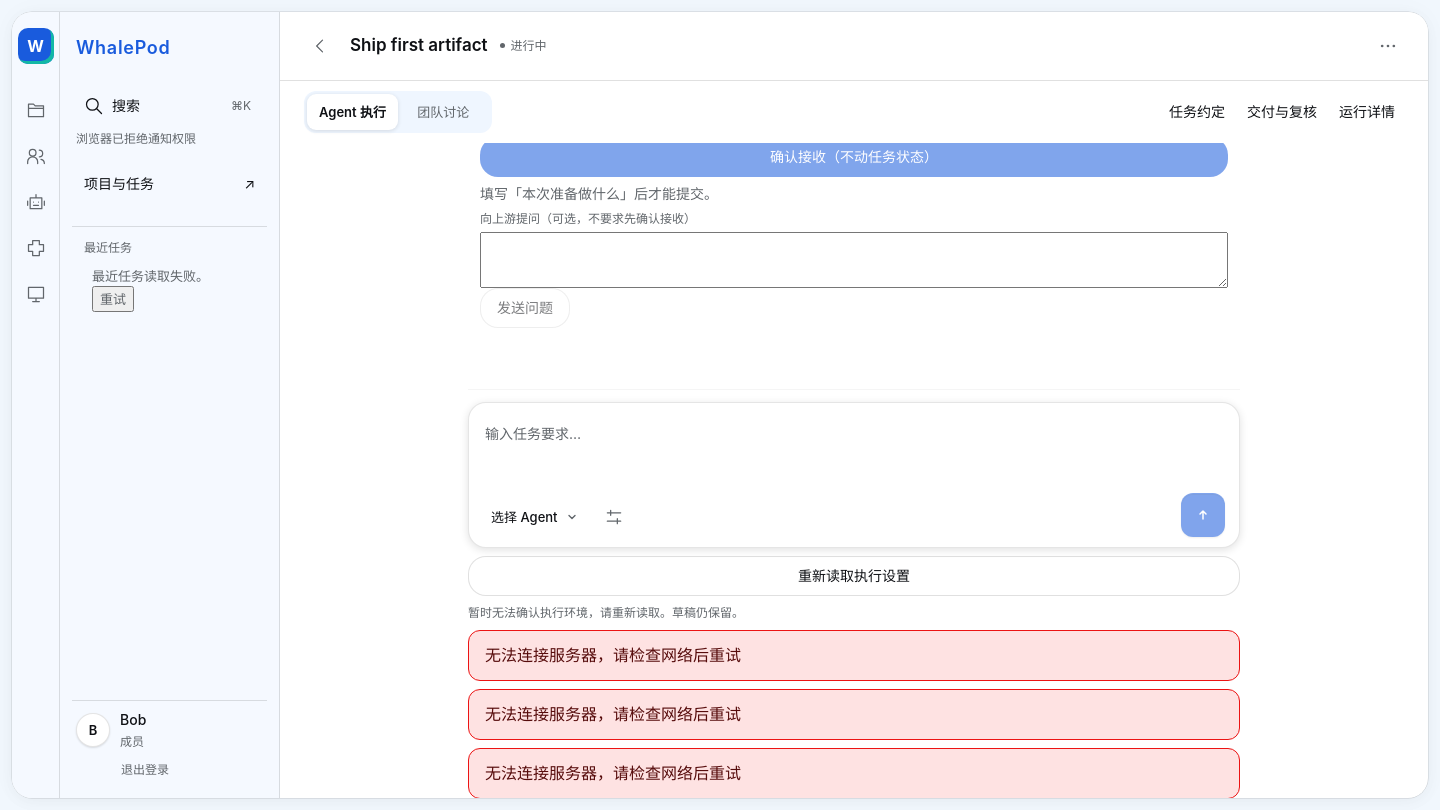
Test: #380 下游接收面板 › 向上游提问不要求先确认接收；失败保留文字，成功后正文不变
(page scrolled)
In the text box labelled "向上游提问": (854, 260) [480,232,1228,288], type "订单号为空时怎么处理？"
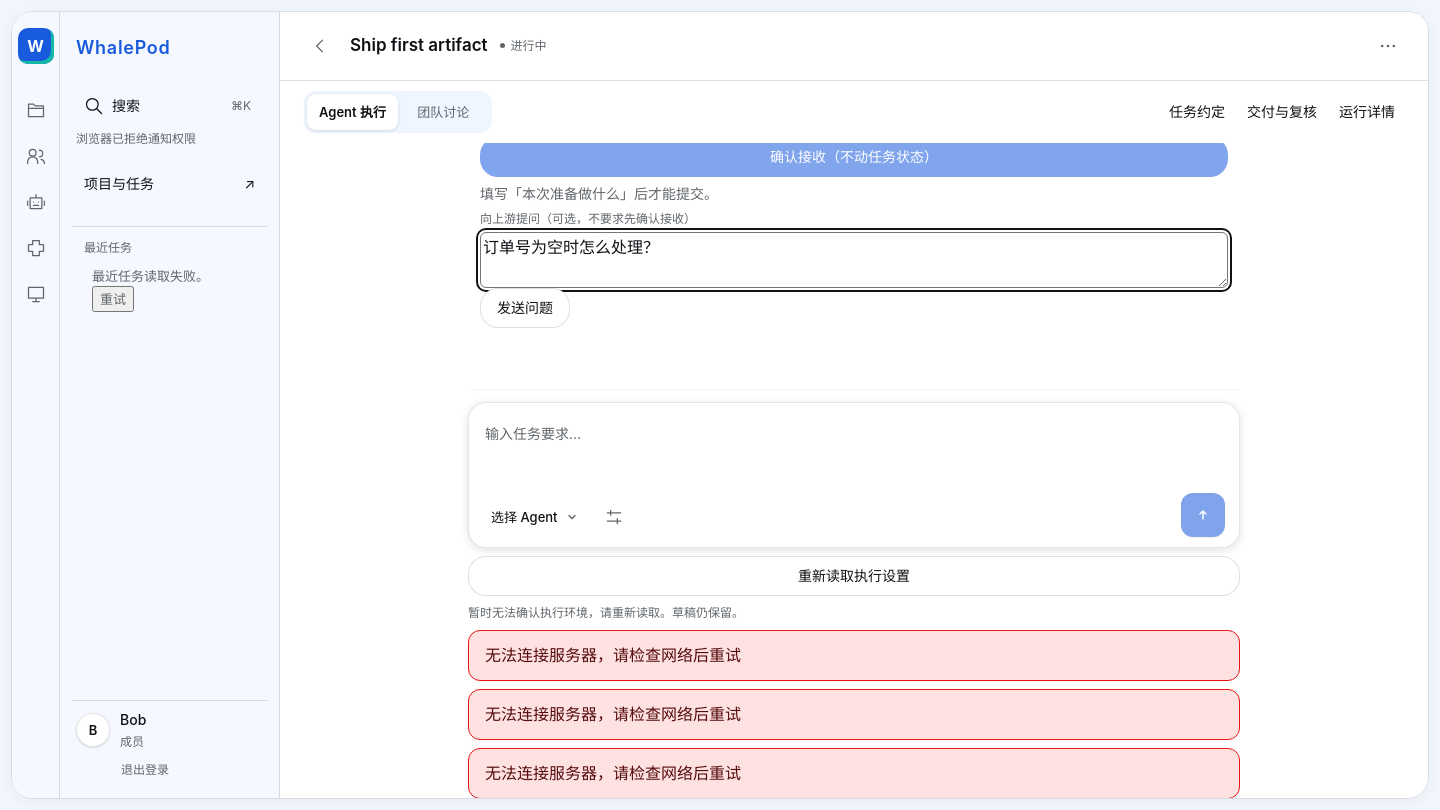
Click the button "发送问题": (525, 308) [480,288,570,328]
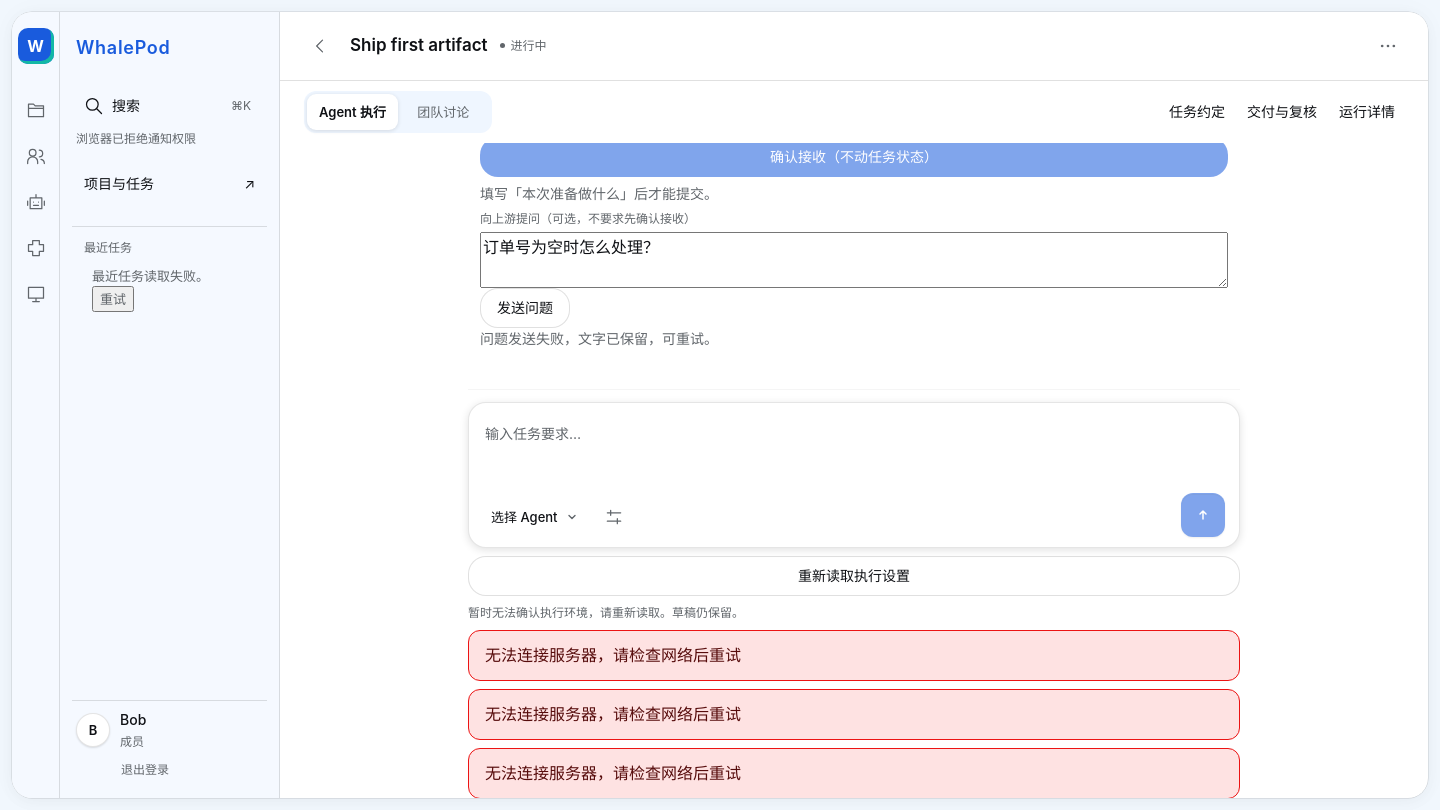
Check: the message "问题发送失败，文字已保留，可重试。" is shown, box [480,330,718,347]
Click the button "发送问题": (525, 308) [480,288,570,328]
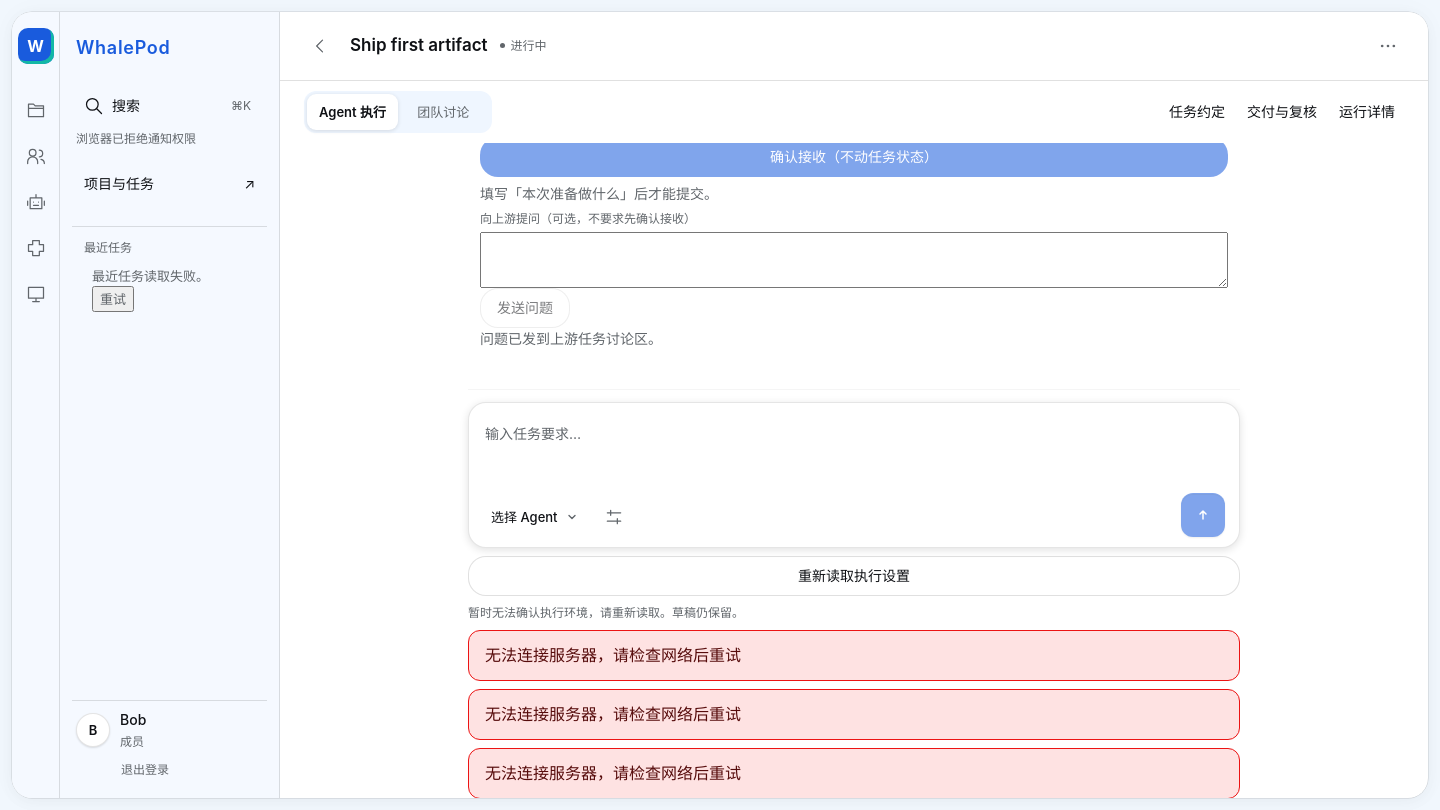
Check: the message "问题已发到上游任务讨论区。" is shown, box [480,330,662,347]
Check: the text box labelled "向上游提问" is empty, box [480,232,1228,288]
